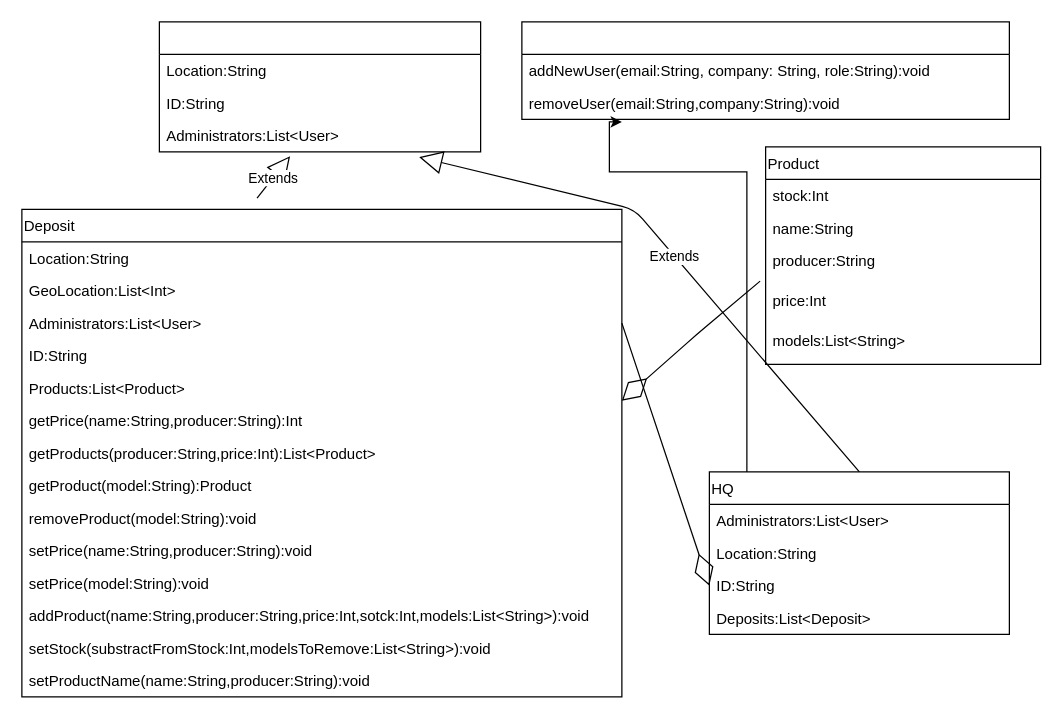
The diagram is 1063 pixels wide and 723 high, and some of its shapes have lost their labels. The shapes that lost their labels are listed below. From the top down, each one's box as (x1, y1, x2, y2) in pixels, then its label:
(158, 21, 481, 152): Center
(521, 21, 1009, 119): EmployeeManager
